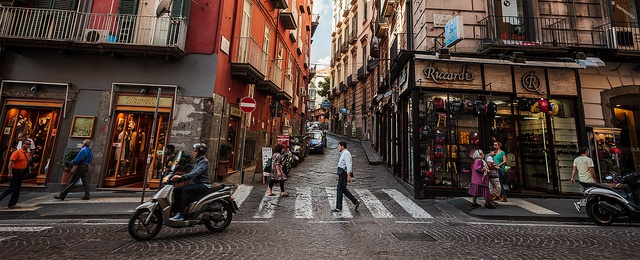non-vehicle: (127, 149, 239, 241), (578, 170, 639, 226)
